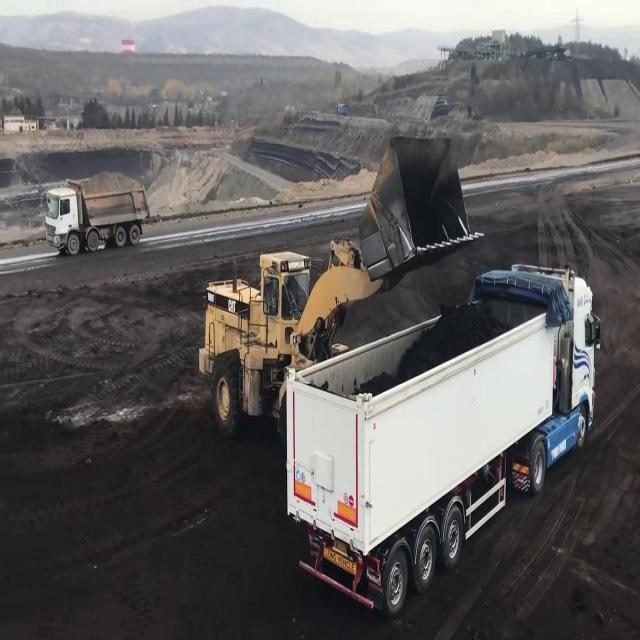Dump Truck: (284, 260, 602, 618), (45, 178, 149, 256)
Loader: (196, 133, 486, 441)
